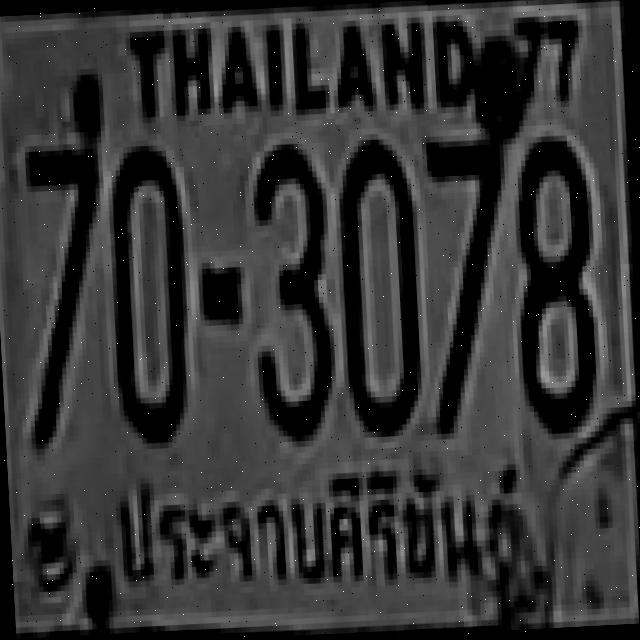0: (332, 132, 424, 433), (102, 142, 190, 442)
3: (242, 136, 334, 438)
7: (422, 133, 518, 422), (422, 133, 516, 394), (422, 130, 512, 328)
8: (505, 132, 597, 433)
PrachuapKhiriKhan: (103, 453, 525, 612)
